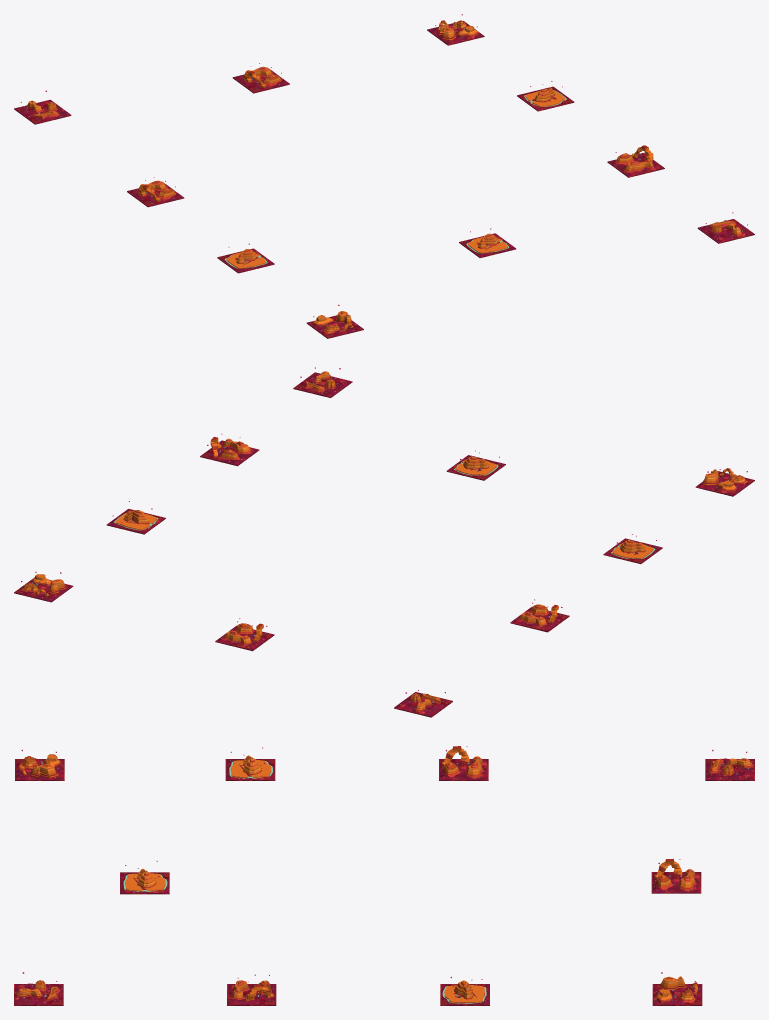
File: Wildcard_Part5_D7.fbx
The picture shows the model from 3 angles, top to bottom: view 1: azimuth 30°, elevation 25°; view 2: azimuth 150°, elevation 25°; view 3: azimuth 270°, elevation 25°; orthographic projection. The views are drawn at different scales.
Visible parts, largest first — view 1: Cube.244, Cube.232, Cube.233, Cube.230, Cube.260, Cube.200, Cube.234, Cube.235, Cube.231, Cube.251; view 2: Cube.244, Cube.230, Cube.232, Cube.233, Cube.260, Cube.235, Cube.251, Cube.200, Cube.231, Cube.234; view 3: Cube.233, Cube.230, Cube.260, Cube.244, Cube.232, Cube.234, Cube.231, Cube.235, Cube.251, Cube.200.
Part boxes in pixels (<box>): Cube.244: <box>607,145,664,177</box>; Cube.232: <box>306,304,363,338</box>; Cube.233: <box>232,63,289,93</box>; Cube.230: <box>127,177,184,207</box>; Cube.260: <box>427,14,484,45</box>; Cube.200: <box>14,90,71,124</box>; Cube.234: <box>459,228,516,257</box>; Cube.235: <box>697,212,754,243</box>; Cube.231: <box>217,243,274,273</box>; Cube.251: <box>517,81,574,111</box>; Cube.244: <box>200,434,259,466</box>; Cube.230: <box>510,599,569,632</box>; Cube.232: <box>695,468,754,496</box>; Cube.233: <box>215,618,274,651</box>; Cube.260: <box>14,571,73,602</box>; Cube.235: <box>293,367,352,397</box>; Cube.251: <box>106,501,165,534</box>; Cube.200: <box>394,690,452,717</box>; Cube.231: <box>603,534,662,563</box>; Cube.234: <box>446,450,505,480</box>; Cube.233: <box>651,858,701,893</box>; Cube.230: <box>439,746,488,780</box>; Cube.260: <box>652,972,702,1005</box>; Cube.244: <box>227,974,276,1005</box>; Cube.232: <box>15,749,64,780</box>; Cube.234: <box>120,861,169,894</box>; Cube.231: <box>225,747,275,780</box>; Cube.235: <box>14,972,63,1005</box>; Cube.251: <box>440,976,489,1005</box>; Cube.200: <box>705,750,754,780</box>.
Size of the model in its own units: 46876 by 1700 by 59698.
Materials: 4 (3 with a texture image).
